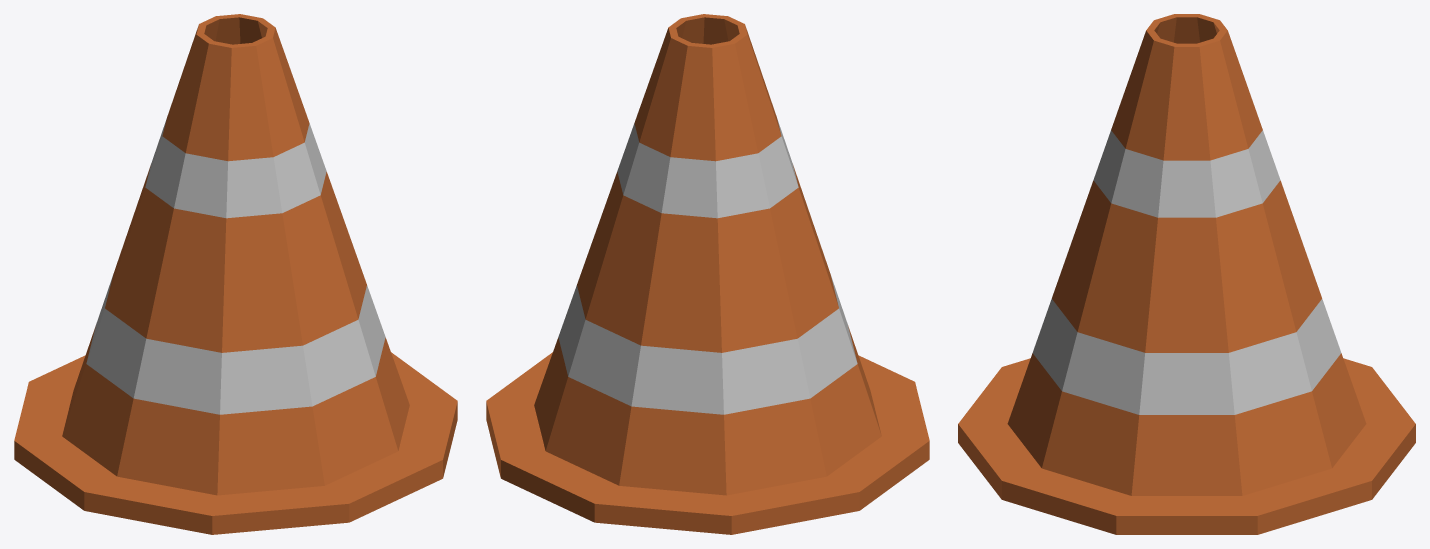
Rendered from trafficCone02_TheanaProd.fbx.
3 views of the same model, side by side, from view 1: azimuth 30°, elevation 25°; view 2: azimuth 150°, elevation 25°; view 3: azimuth 270°, elevation 25° (orthographic).
Visible parts, largest first — view 1: Cone 02; view 2: Cone 02; view 3: Cone 02.
Boxes of the visible parts, <box> form: Cone 02: <box>14,14,457,534</box>; Cone 02: <box>486,14,929,534</box>; Cone 02: <box>958,14,1415,534</box>.
Size of the model in its own units: 190 by 199 by 200.
